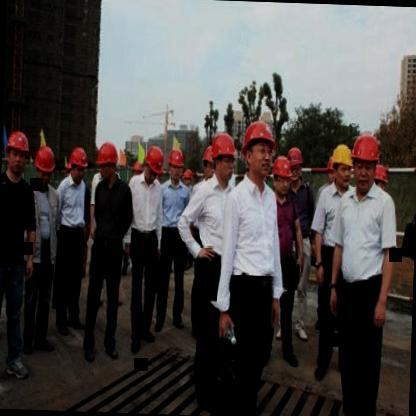helmet: (242, 115, 276, 179), (350, 132, 380, 190), (3, 127, 32, 181), (209, 132, 237, 182), (330, 141, 354, 190), (96, 142, 121, 186), (31, 144, 56, 186), (266, 154, 290, 196), (142, 142, 166, 183), (198, 141, 216, 186), (288, 144, 307, 186), (68, 144, 88, 182), (369, 164, 389, 202), (168, 147, 186, 185)
